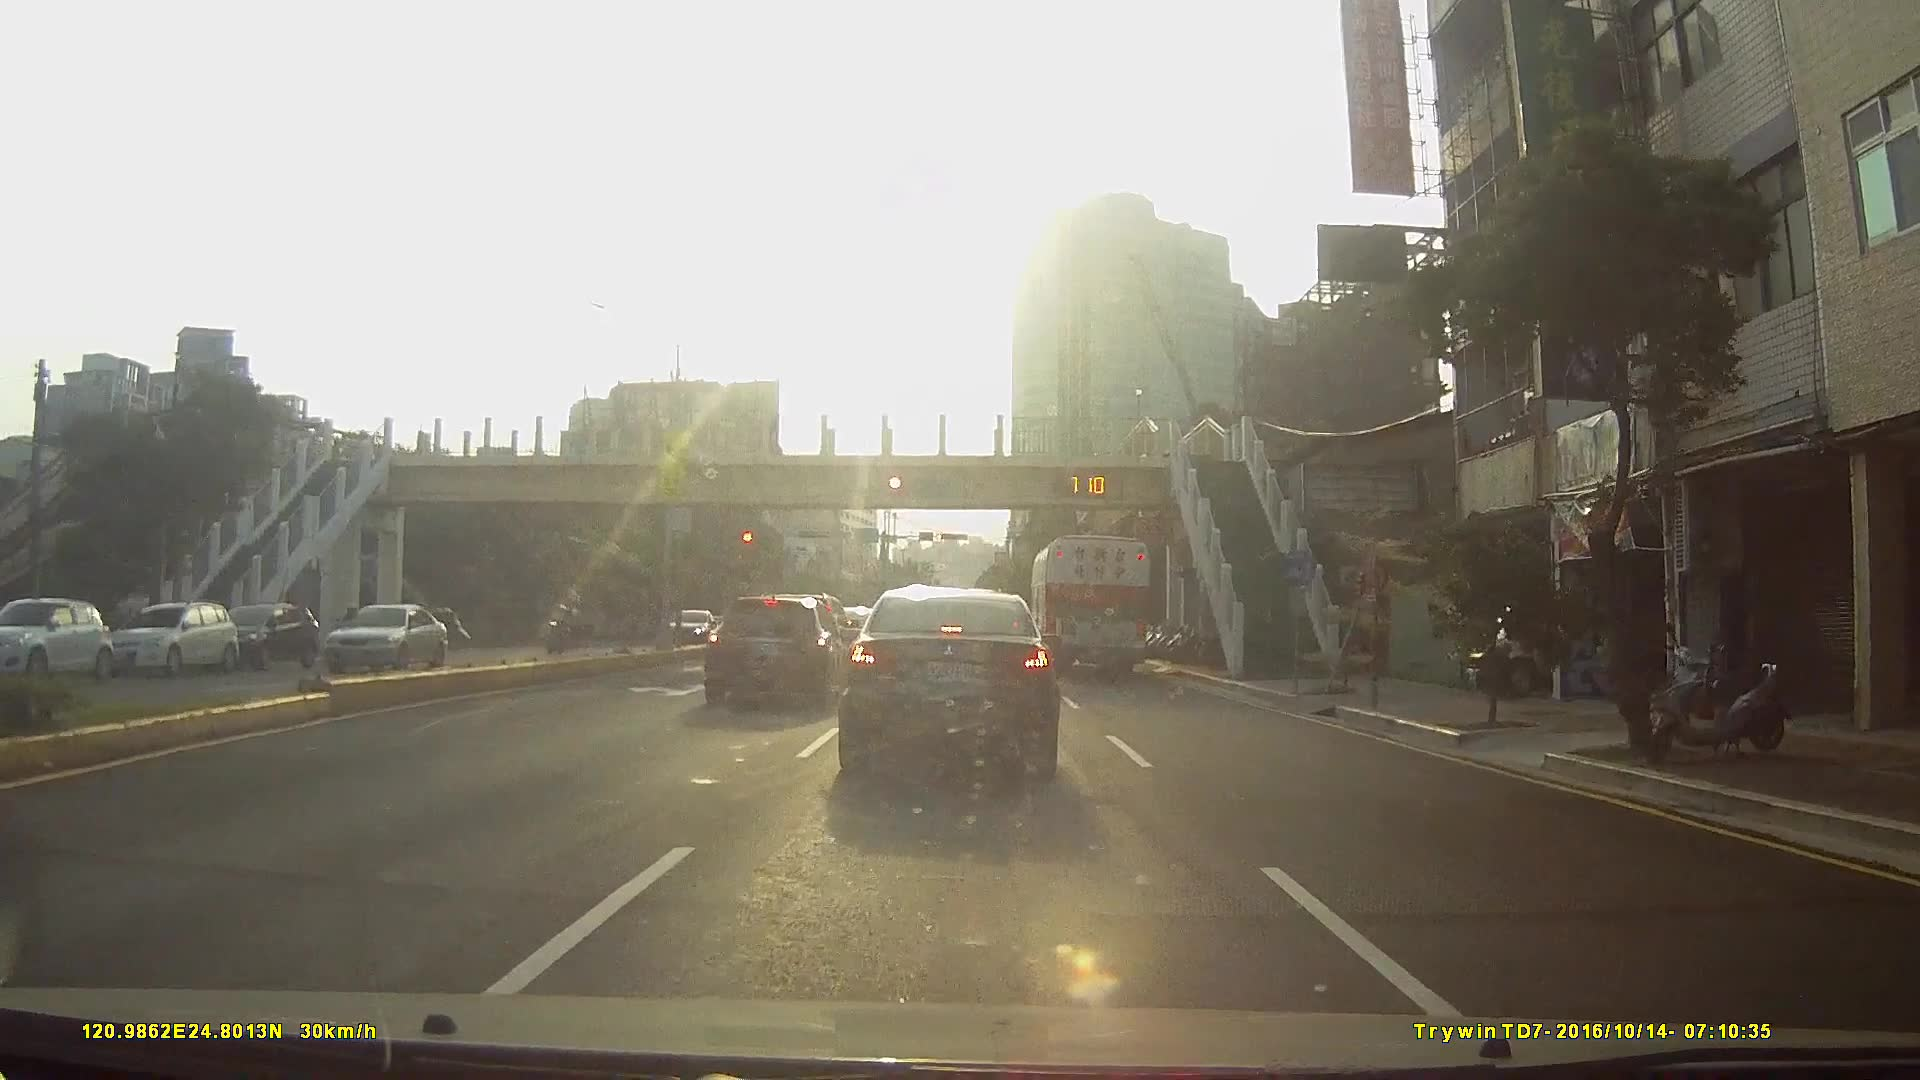rider: (542, 604, 577, 656)
vehicle: (834, 584, 1063, 778), (697, 590, 852, 710), (1028, 532, 1151, 679), (99, 598, 235, 675), (307, 600, 441, 674), (0, 596, 109, 684), (214, 600, 316, 666), (653, 606, 713, 647)
